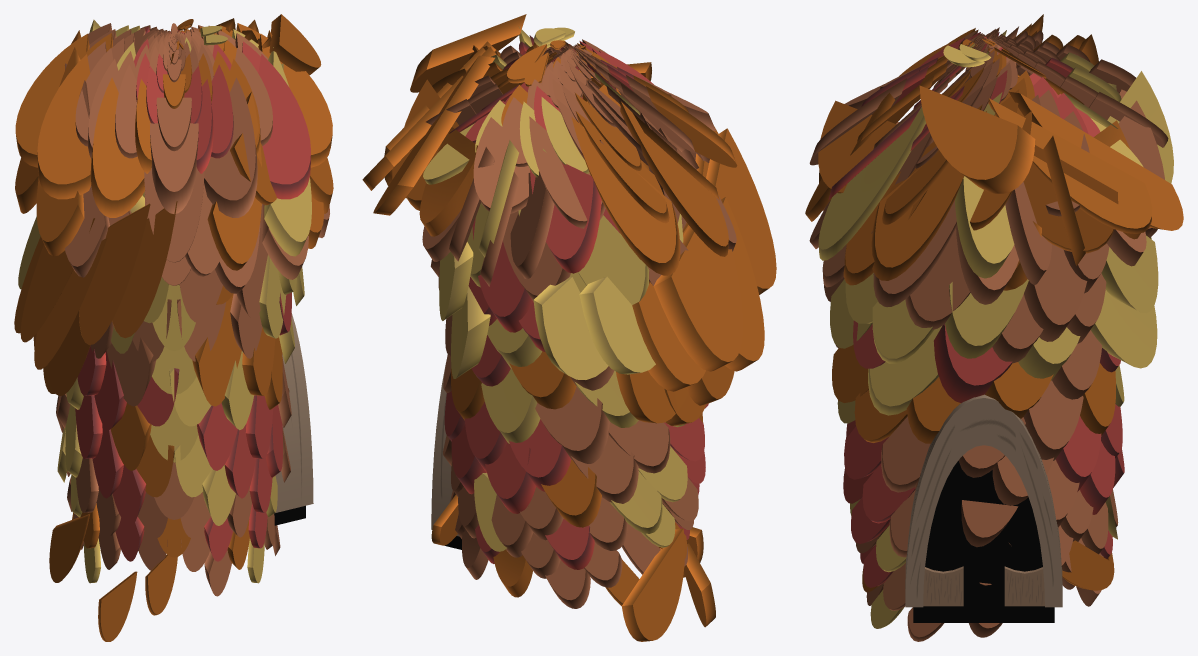
File: Pinecone House.fbx
3 views of the same model, side by side, from view 1: azimuth 30°, elevation 25°; view 2: azimuth 150°, elevation 25°; view 3: azimuth 270°, elevation 25° (orthographic). The views are drawn at different scales.
Visible parts, largest first — view 1: Cylinder1225, Cylinder1228, Cylinder1600, Cylinder1226, DoorFrame, Cylinder1235, Cylinder1589, Cylinder1227, Cylinder1234, Cylinder1223, Cylinder1587, Cylinder1576 (+83 smaller); view 2: Cylinder1587, Cylinder1222, Cylinder1584, Cylinder1596, Cylinder1599, Cylinder1600, Cylinder1458, Cylinder1575, Cylinder1593, Cylinder1221, Cylinder1504, Cylinder1563 (+66 smaller); view 3: DoorFrame, DoorVoid, Cylinder1591, Cylinder1581, Cylinder1224, Cylinder1216, Cylinder1593, Cylinder1569, Cylinder1557, Cylinder1558, Cylinder1217, Cylinder1535 (+63 smaller).
Boxes of the visible parts, bbox=[...] form: Cylinder1225: bbox=[37, 54, 91, 199]; Cylinder1228: bbox=[258, 54, 310, 199]; Cylinder1600: bbox=[79, 203, 150, 345]; Cylinder1226: bbox=[90, 77, 144, 217]; DoorFrame: bbox=[275, 313, 313, 512]; Cylinder1235: bbox=[204, 77, 257, 217]; Cylinder1589: bbox=[112, 201, 177, 338]; Cylinder1227: bbox=[150, 123, 198, 213]; Cylinder1234: bbox=[15, 33, 89, 167]; Cylinder1223: bbox=[207, 91, 261, 270]; Cylinder1587: bbox=[20, 218, 94, 342]; Cylinder1576: bbox=[34, 238, 107, 369]; Cylinder1587: bbox=[653, 226, 742, 371]; Cylinder1222: bbox=[571, 117, 680, 275]; Cylinder1584: bbox=[533, 277, 608, 379]; Cylinder1596: bbox=[579, 214, 683, 374]; Cylinder1599: bbox=[620, 101, 728, 256]; Cylinder1600: bbox=[706, 128, 776, 294]; Cylinder1458: bbox=[621, 528, 684, 641]; Cylinder1575: bbox=[632, 222, 705, 391]; Cylinder1593: bbox=[373, 55, 494, 215]; Cylinder1221: bbox=[530, 162, 601, 273]; Cylinder1504: bbox=[535, 387, 609, 463]; Cylinder1563: bbox=[543, 149, 649, 304]; DoorFrame: bbox=[905, 394, 1062, 607]; DoorVoid: bbox=[913, 461, 1054, 622]; Cylinder1591: bbox=[919, 85, 1035, 193]; Cylinder1581: bbox=[988, 98, 1152, 233]; Cylinder1224: bbox=[871, 111, 986, 280]; Cylinder1216: bbox=[818, 106, 925, 260]; Cylinder1593: bbox=[1009, 91, 1183, 230]; Cylinder1569: bbox=[1023, 145, 1118, 253]; Cylinder1557: bbox=[945, 279, 1028, 358]; Cylinder1558: bbox=[1024, 244, 1087, 341]; Cylinder1217: bbox=[955, 176, 1014, 278]; Cylinder1535: bbox=[1090, 289, 1157, 368].
Size of the model in its own units: 18.24 by 32.59 by 17.86.
7 materials, 7 textured.
